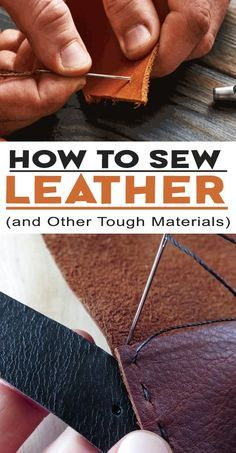cuero: (1, 292, 236, 453)
